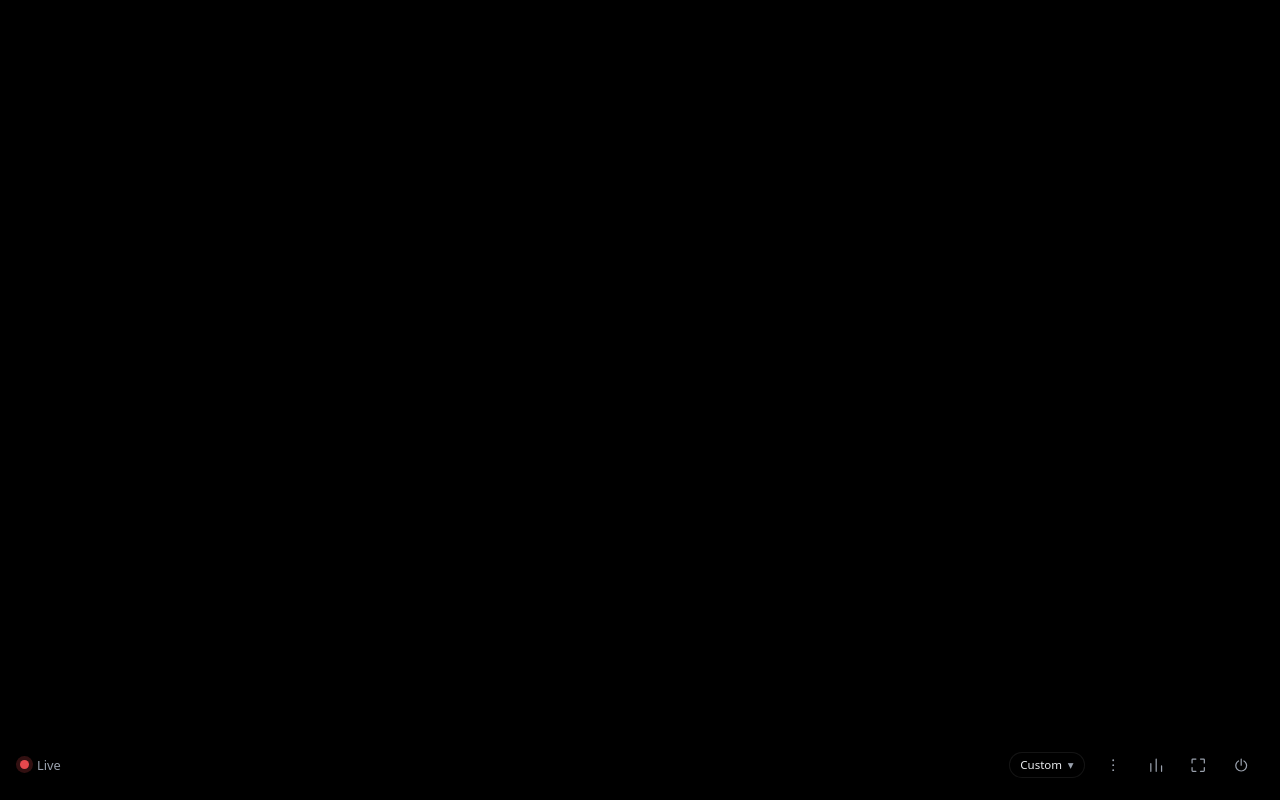
ViewerScreen menu button (touch reachability) › marks a preset as reconnecting for a parity reset under a carrier delivery mode
This screenshot has width=1280, height=800.
Click the button with aria-label "Playback quality:" at (1047, 765), box [1009,752,1085,778]
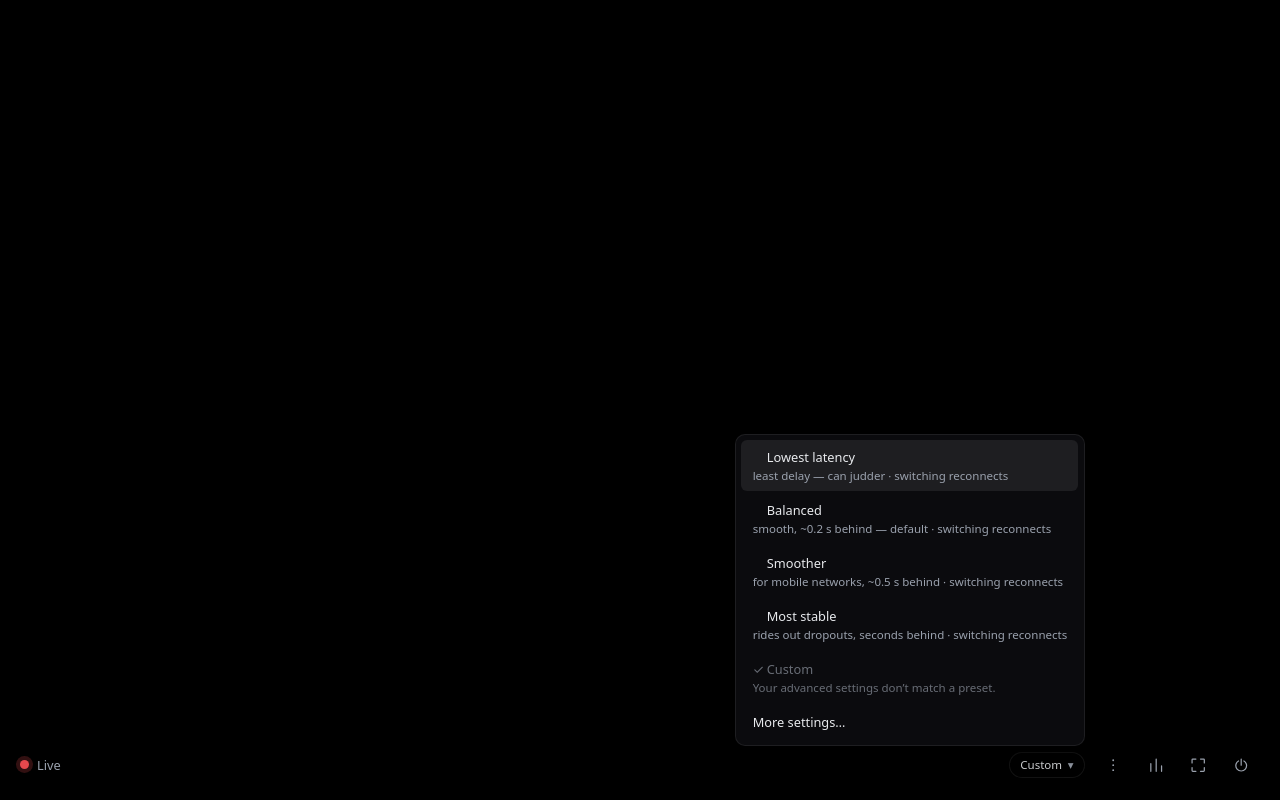
Check: the menu item "Smoother" shows "reconnects", box [741,546,1078,598]
